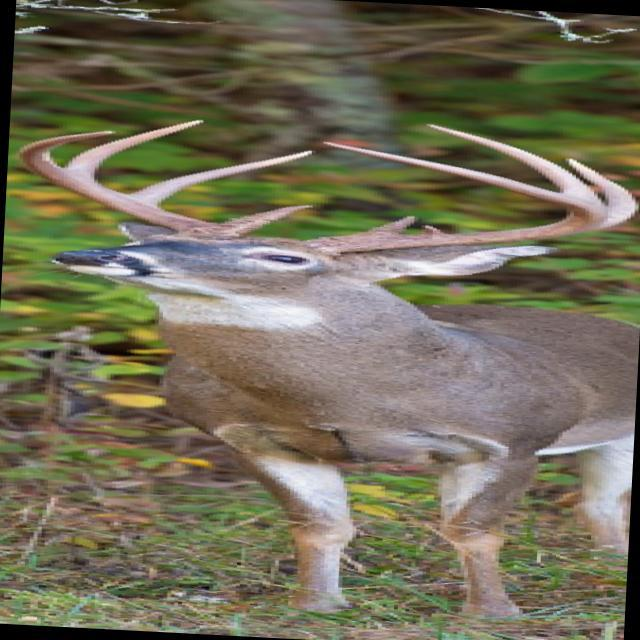E1: (418, 225, 445, 235)
L-F: (299, 142, 606, 256)
L-G1: (366, 215, 420, 235)
L-G2: (562, 158, 638, 229)
L-G3: (425, 123, 604, 205)
R-F: (15, 131, 250, 240)
R-G1: (219, 205, 313, 232)
R-G2: (127, 150, 315, 206)
R-G3: (64, 119, 206, 180)
